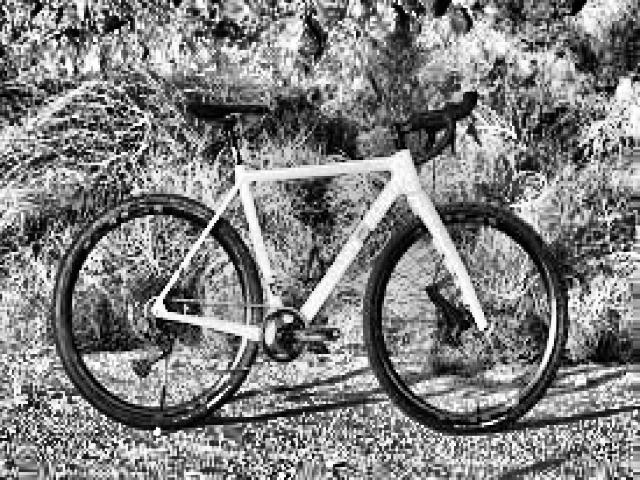cranks_set: (258, 304, 339, 366)
rear_derailleur: (131, 315, 180, 382)
saddle: (185, 98, 270, 128)
sti_shifter: (460, 88, 486, 148)
wheel: (50, 191, 262, 434), (362, 200, 573, 437)
